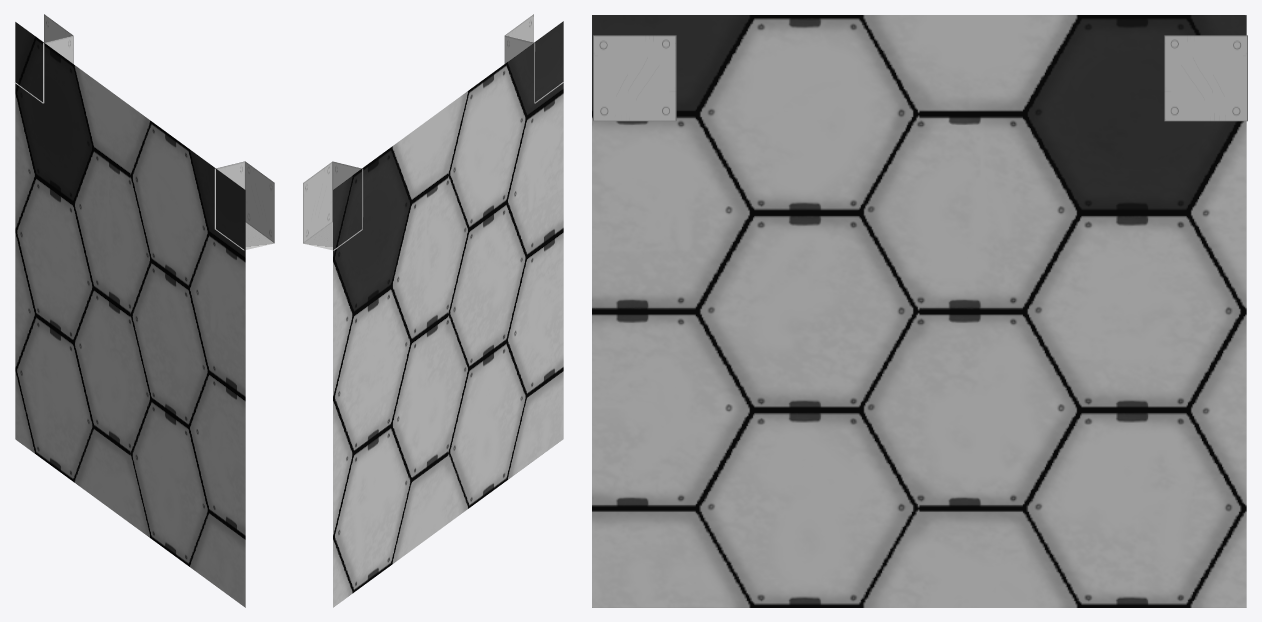
File: Wall_CornerTop.fbx
The picture shows the model from 3 angles, left to right: view 1: azimuth 30°, elevation 25°; view 2: azimuth 150°, elevation 25°; view 3: azimuth 270°, elevation 25°; orthographic projection. The views are drawn at different scales.
Visible parts, largest first — view 1: pPlane121; view 2: pPlane121; view 3: pPlane121.
Boxes of the visible parts, box(x1,y1,x2,y2) form: pPlane121: box(14, 14, 274, 607); pPlane121: box(303, 14, 563, 607); pPlane121: box(592, 15, 1247, 607).
Bounding box in the file's own units: 0.1534 × 2 × 2.
